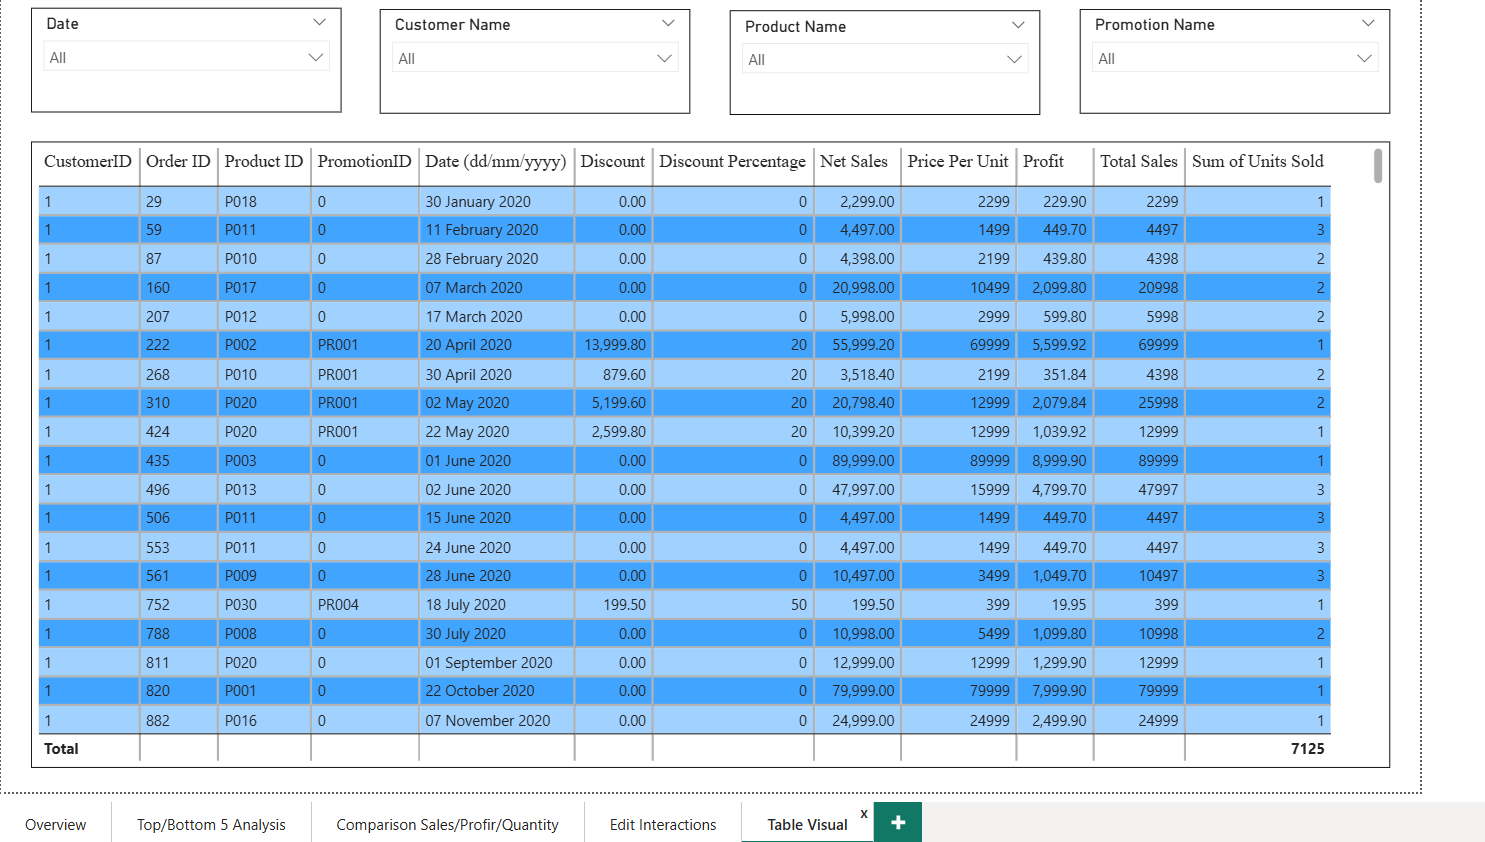

This screenshot's page, from the dashboard's own definition file:
{"tool":"powerbi","page":{"name":"Table Visual","canvas":[1280,720],"ordinal":4},"visuals":[{"type":"tableEx","fields":{"Values":["Fact Table.CustomerID","Fact Table.Order ID","Fact Table.Product ID","Fact Table.PromotionID","Fact Table.Date (dd/mm/yyyy)","Fact Table.Discount","Fact Table.Discount Percentage","Fact Table.Net Sales ","Fact Table.Price Per Unit","Fact Table.Profit","Fact Table.Total Sales ","Sum(Fact Table.Units Sold)"]},"box":[26.9,133.3,1225.3,564.9],"z":0},{"type":"slicer","fields":{"Values":["Date Table 1.Date"]},"box":[26.9,12.2,280,94.2],"z":1},{"type":"slicer","fields":{"Values":["Dim Customers.Customer Name"]},"box":[342,13.5,280,94.2],"z":2},{"type":"slicer","fields":{"Values":["Dim Product.Product Name"]},"box":[657.1,14.7,280,94.2],"z":3},{"type":"slicer","fields":{"Values":["Dim Promotion.Promotion Name"]},"box":[972.2,13.5,280,94.2],"z":4}]}

Visuals, with their boxes in screenshot pixels (x1, y1, x2, y2):
tableEx - Fact Table.CustomerID x Fact Table.Order ID: 34, 139, 1386, 763
slicer - Date Table 1.Date: 34, 6, 343, 110
slicer - Dim Customers.Customer Name: 381, 7, 690, 111
slicer - Dim Product.Product Name: 729, 8, 1038, 112
slicer - Dim Promotion.Promotion Name: 1077, 7, 1386, 111
